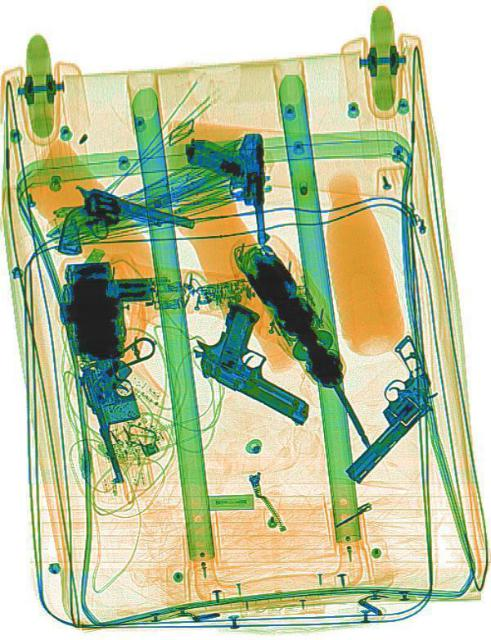Gun: (312, 331, 450, 489), (185, 288, 330, 426), (54, 181, 193, 291), (181, 128, 270, 252), (82, 354, 158, 486)
